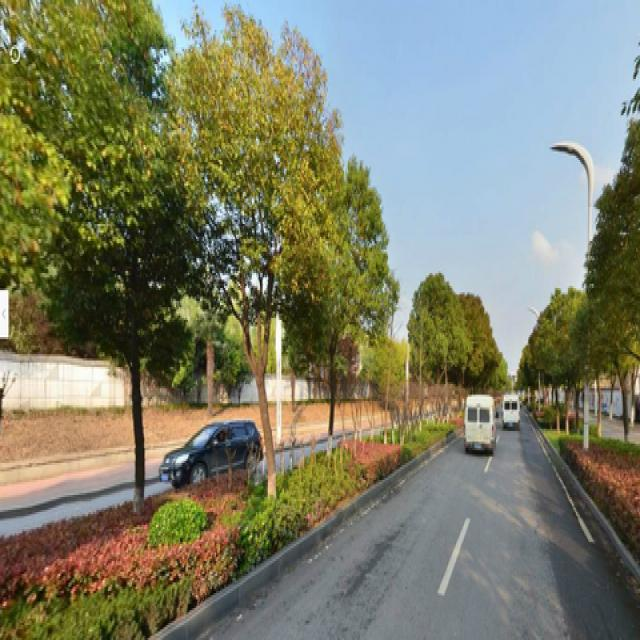cinn: (24, 17, 172, 506), (198, 69, 298, 504), (313, 179, 384, 486)
